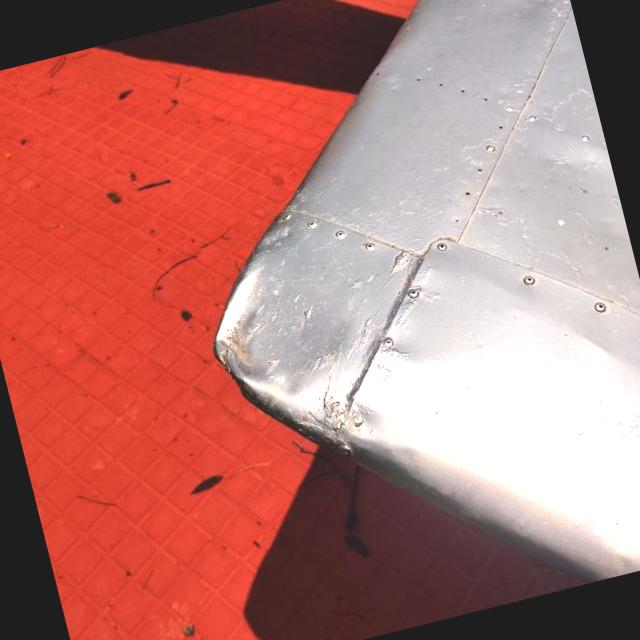dent: (168, 236, 344, 424)
